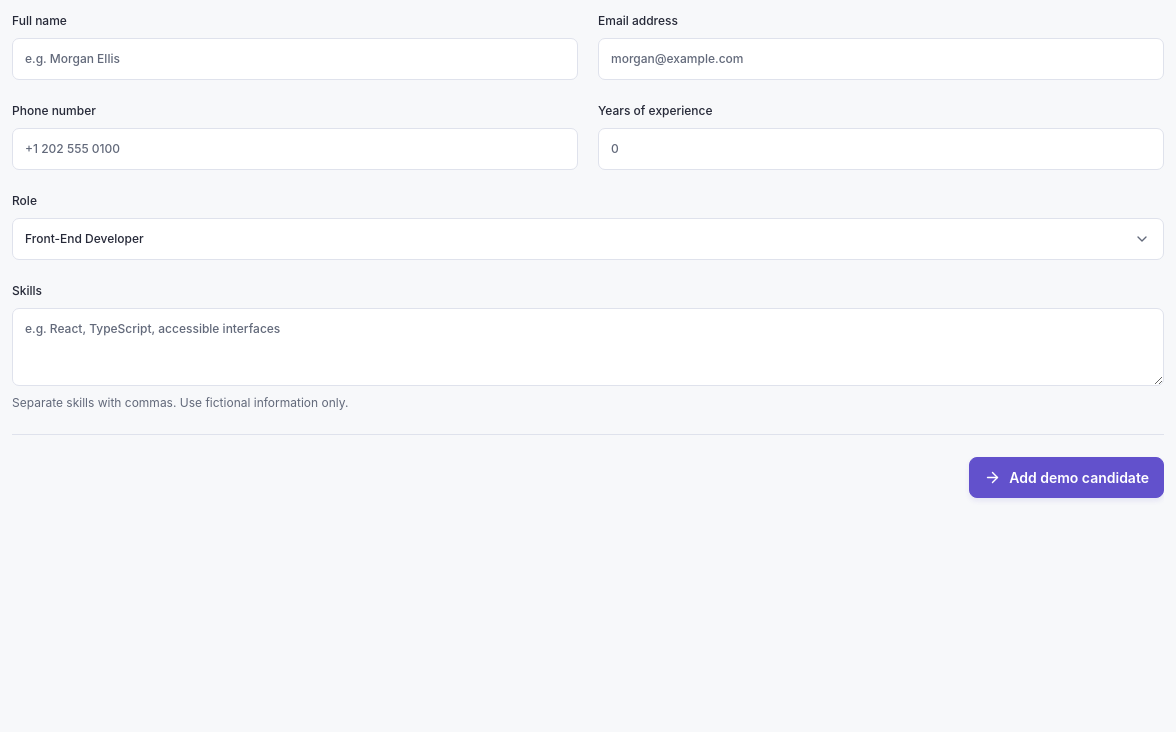
Scenario: shows accessible errors without saving an empty form
Click the button "Add demo candidate": click(1067, 478) [969,457,1164,498]
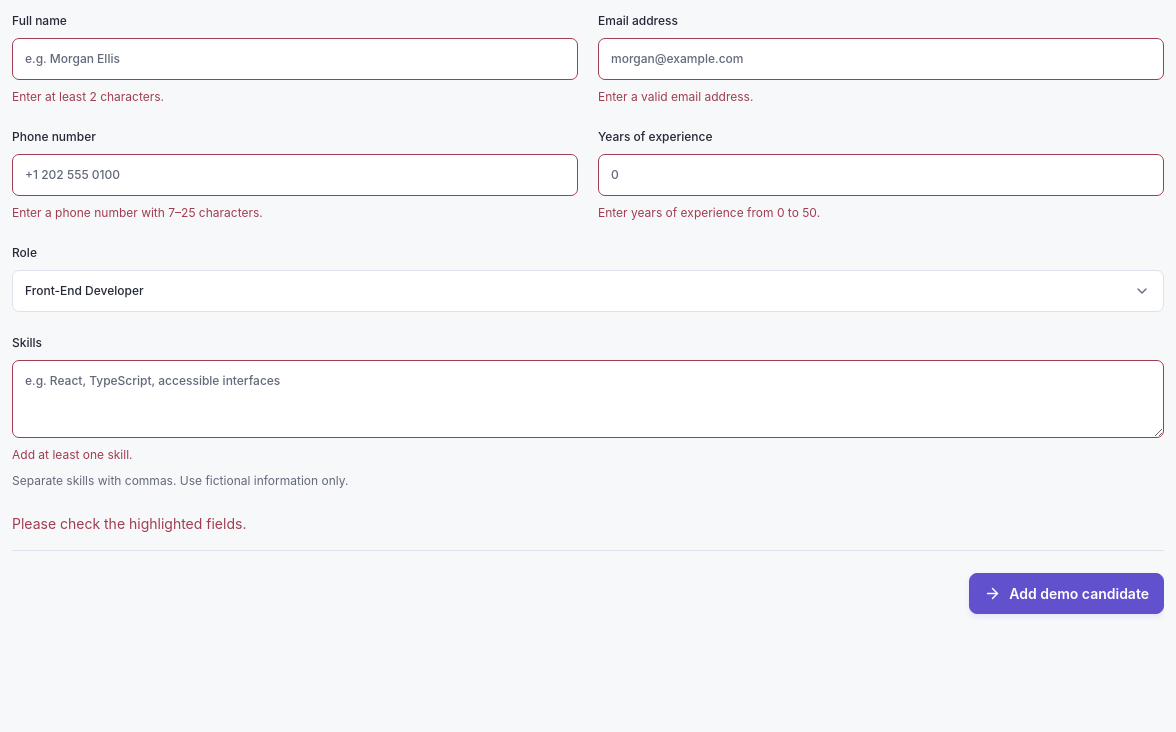
Expected: the message shows "highlighted", [12,515,246,532]
